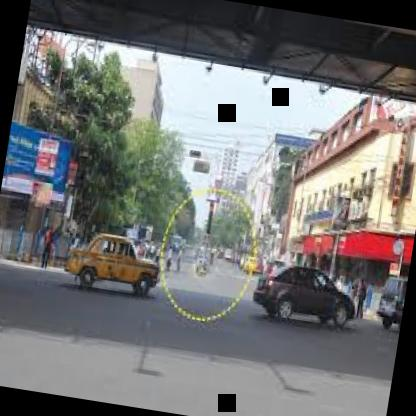car: (38, 216, 177, 315), (235, 247, 362, 352), (368, 252, 411, 346)
